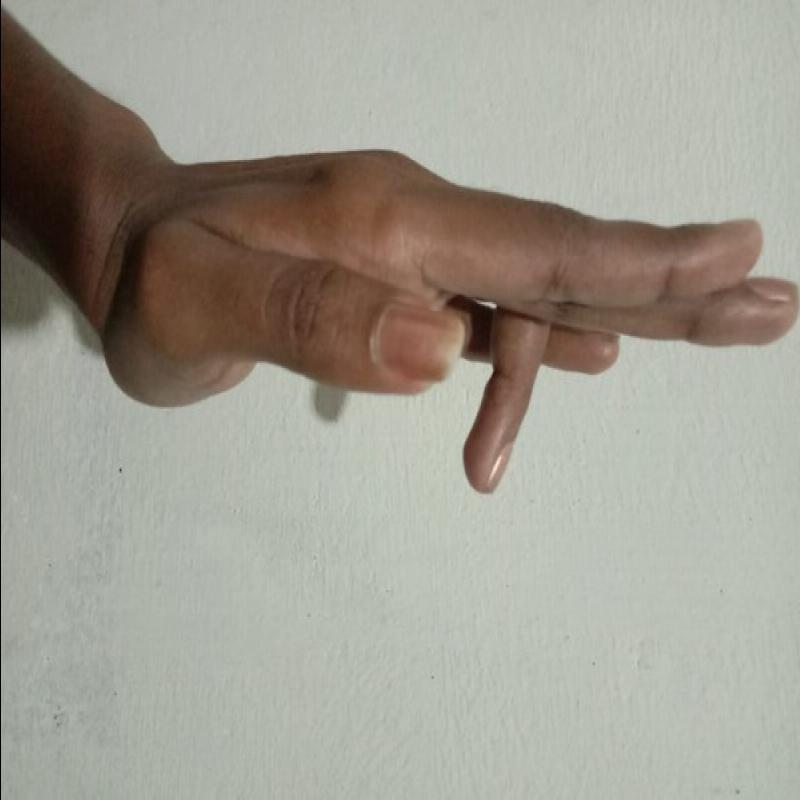Pathaaka: (91, 117, 800, 520)
